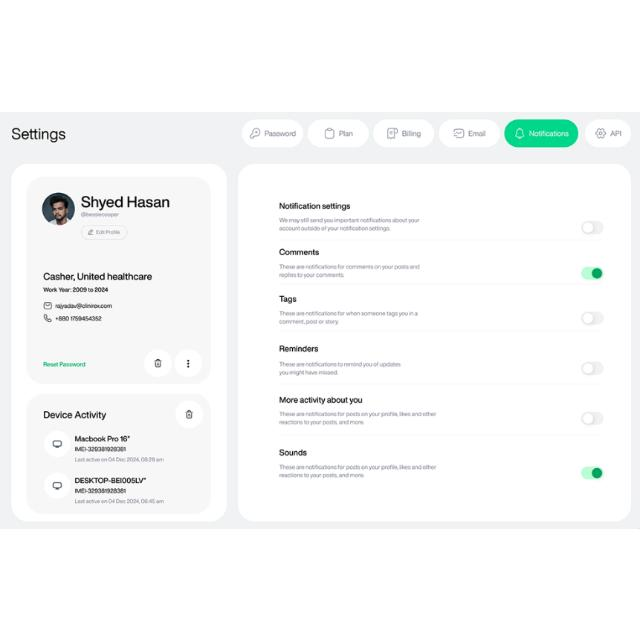QLabel: (278, 410, 438, 426), (278, 216, 420, 232), (278, 464, 438, 478), (278, 263, 420, 277), (278, 360, 402, 376), (278, 310, 419, 324), (79, 194, 169, 210), (10, 126, 66, 142), (44, 272, 152, 280), (278, 201, 350, 211), (278, 396, 362, 404), (44, 410, 106, 420), (74, 476, 146, 484), (74, 498, 166, 504), (75, 456, 165, 462), (74, 435, 130, 443), (44, 286, 108, 292), (42, 360, 86, 368), (278, 248, 320, 256), (278, 344, 318, 352), (74, 445, 126, 451), (74, 488, 126, 494), (530, 129, 568, 137), (56, 315, 102, 321), (55, 304, 112, 308), (279, 448, 307, 456), (401, 128, 421, 138), (264, 130, 296, 136), (278, 294, 296, 304), (81, 212, 119, 216), (96, 228, 120, 234), (468, 130, 486, 136), (338, 130, 354, 136), (610, 128, 622, 136)
VBtn: (505, 118, 579, 146), (438, 118, 499, 148), (307, 119, 368, 148), (373, 118, 435, 146), (242, 118, 302, 146), (584, 119, 632, 148), (81, 224, 127, 238)
VCard: (236, 162, 632, 522), (10, 162, 228, 524), (25, 176, 211, 384), (27, 393, 212, 515)
VDivider: (281, 282, 601, 286), (277, 383, 603, 385), (278, 434, 602, 436), (278, 330, 602, 332), (278, 238, 602, 240)
VIcon: (42, 192, 74, 224), (386, 126, 398, 138), (250, 127, 260, 139), (324, 126, 334, 138), (514, 126, 524, 138), (596, 126, 606, 138), (454, 128, 464, 138), (52, 439, 62, 448), (154, 358, 162, 368), (52, 482, 62, 490), (44, 301, 52, 309), (44, 314, 52, 322), (185, 410, 192, 418), (87, 228, 93, 234), (187, 358, 190, 368)
VSwitch: (580, 266, 604, 280), (582, 466, 604, 480), (580, 362, 604, 374), (581, 220, 603, 233), (581, 312, 603, 324), (581, 412, 603, 424)
